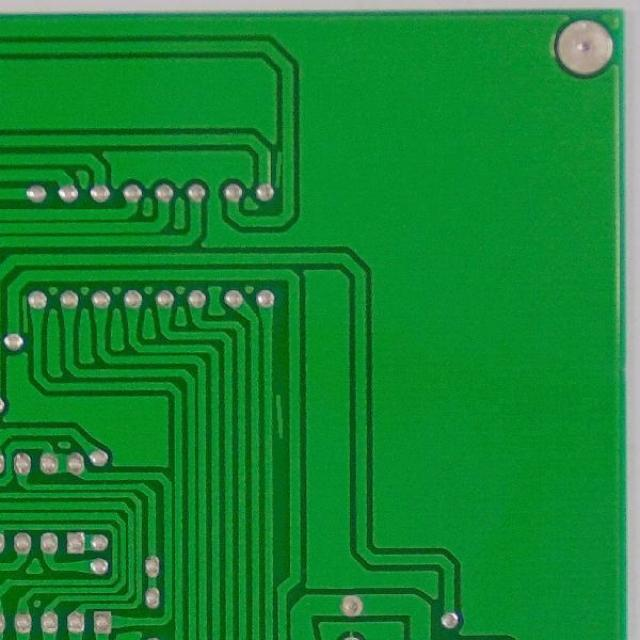spurious_copper: (269, 390, 290, 443), (16, 292, 37, 338), (268, 149, 286, 192)
